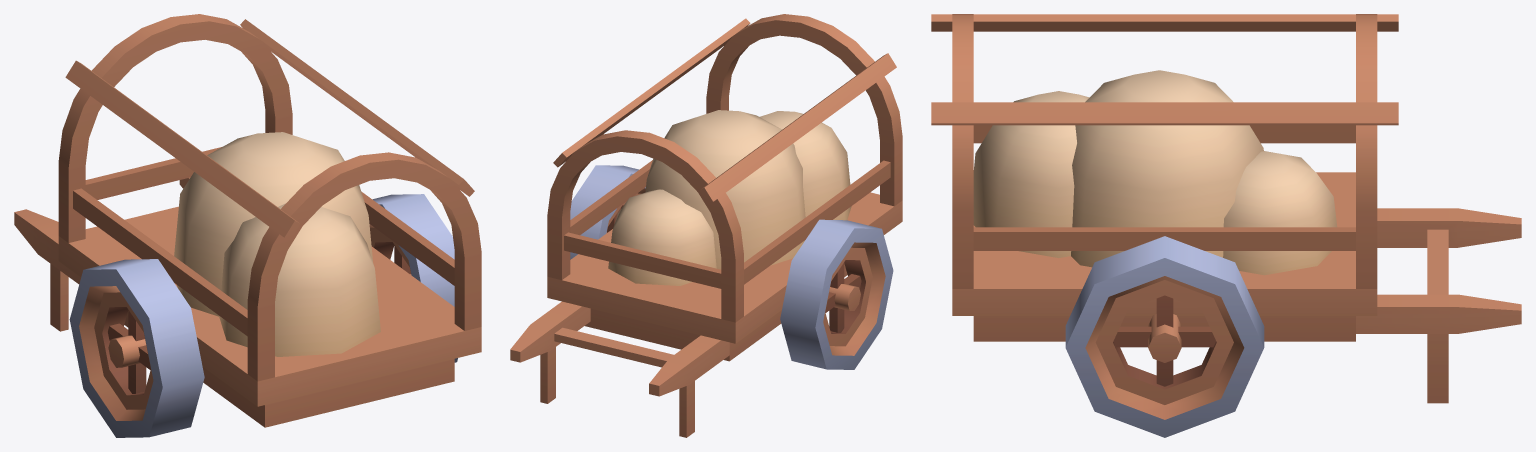
File: cart-high.glb
3 renders of one model, left to right at view 1: azimuth 30°, elevation 25°; view 2: azimuth 150°, elevation 25°; view 3: azimuth 270°, elevation 25°, orthographic. The views are drawn at different scales.
Parts seen in each view (by area): view 1: cart-high; view 2: cart-high; view 3: cart-high.
Boxes of the visible parts, box(x1,y1,x2,y2) form: cart-high: box(14, 14, 481, 437); cart-high: box(510, 14, 902, 437); cart-high: box(931, 14, 1521, 437).
Bounding box in the file's own units: 0.893 × 0.8605 × 1.39.
1 material, 1 textured.
